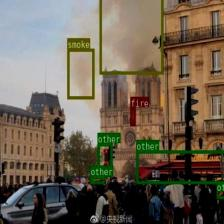fire: (130, 107, 135, 125)
smoke: (99, 0, 162, 74), (67, 48, 94, 98)
